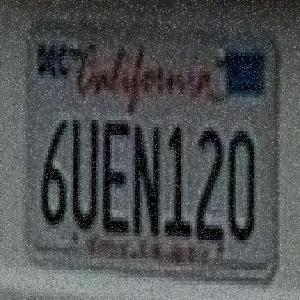Plate: (16, 6, 284, 295)
